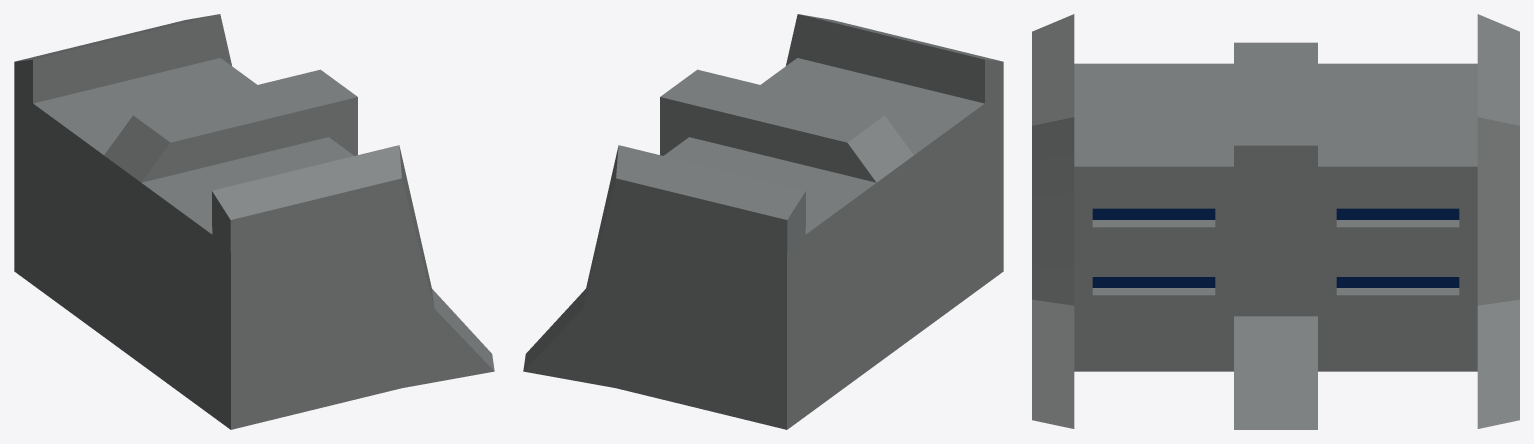
File: bina1.fbx
3 views of the same model, side by side, from view 1: azimuth 30°, elevation 25°; view 2: azimuth 150°, elevation 25°; view 3: azimuth 270°, elevation 25° (orthographic). The views are drawn at different scales.
Visible parts, largest first — view 1: Cube; view 2: Cube; view 3: Cube.
Part boxes in pixels (<box>): Cube: <box>14,14,494,429</box>; Cube: <box>523,14,1003,429</box>; Cube: <box>1032,14,1519,429</box>.
Size of the model in its own units: 299 by 237 by 400.
